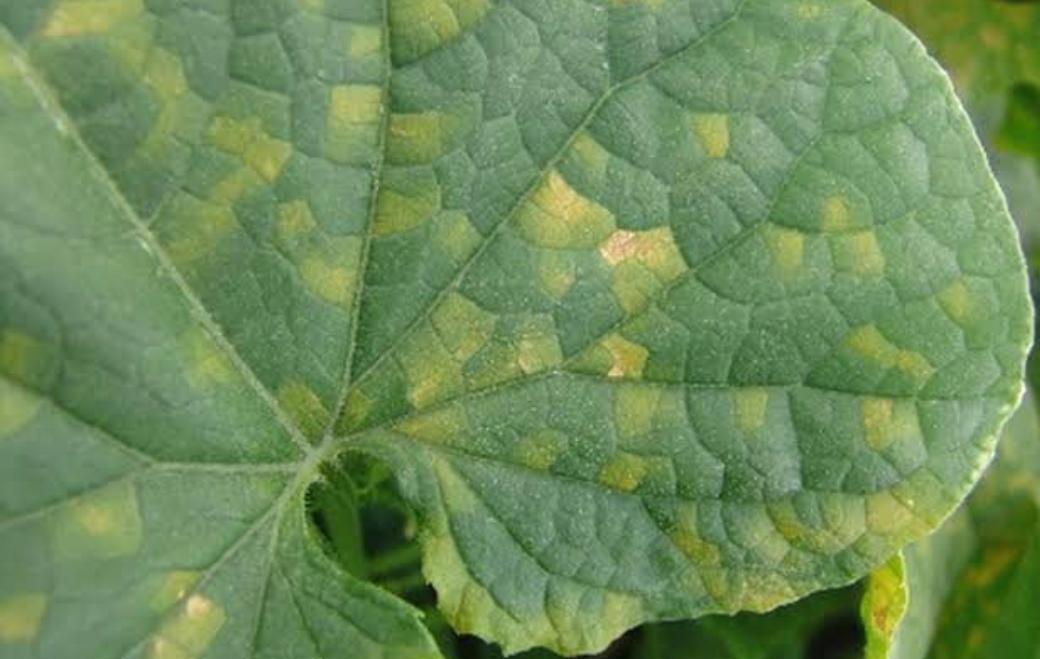Bok-Choy-Diseased: (12, 20, 1040, 659)
